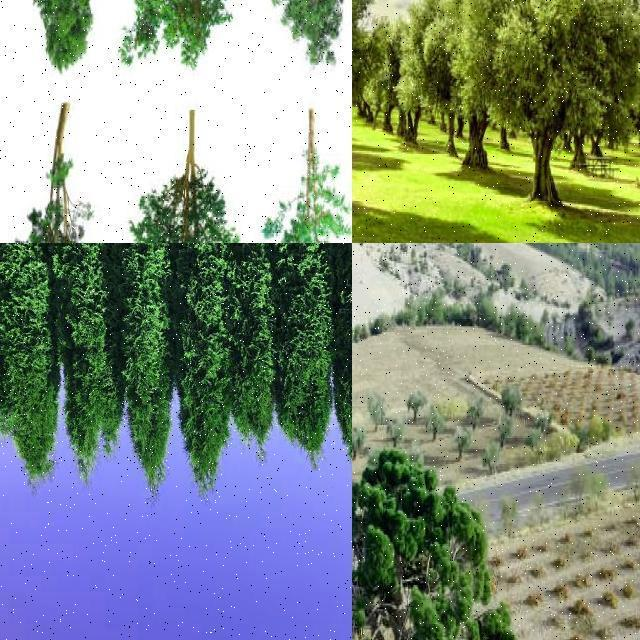tree: (468, 1, 640, 220), (352, 432, 508, 640), (352, 0, 464, 190), (121, 0, 253, 140), (0, 243, 60, 499), (178, 243, 234, 517), (125, 109, 237, 244), (264, 242, 324, 493), (370, 0, 462, 148), (6, 101, 102, 242), (66, 243, 118, 497), (220, 242, 272, 493), (125, 242, 172, 510), (451, 0, 522, 176), (267, 113, 351, 243), (268, 0, 348, 136), (0, 97, 74, 243), (22, 0, 94, 144), (1, 243, 44, 481), (0, 0, 48, 148), (0, 243, 26, 511), (0, 101, 44, 243), (0, 0, 42, 144), (352, 0, 380, 132), (338, 243, 352, 507), (365, 394, 387, 434)
